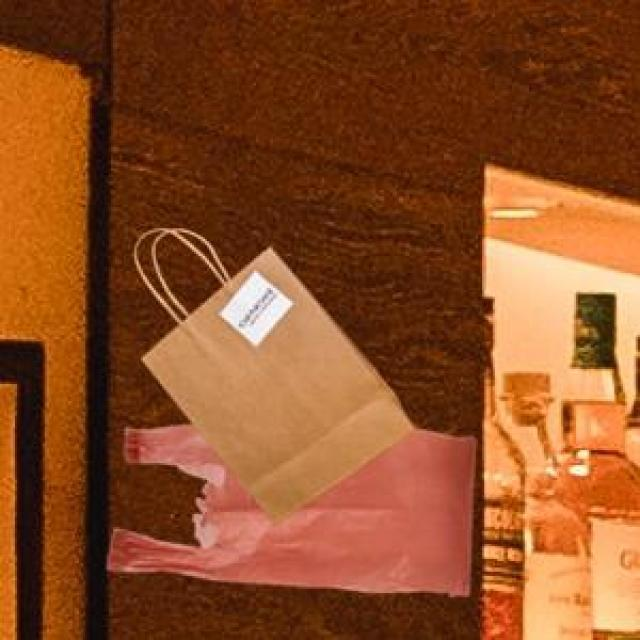paper: (139, 243, 412, 518)
